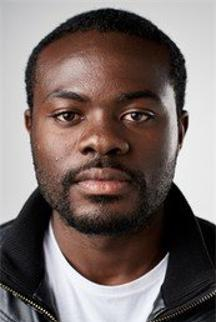Sober: (37, 49, 171, 217)
